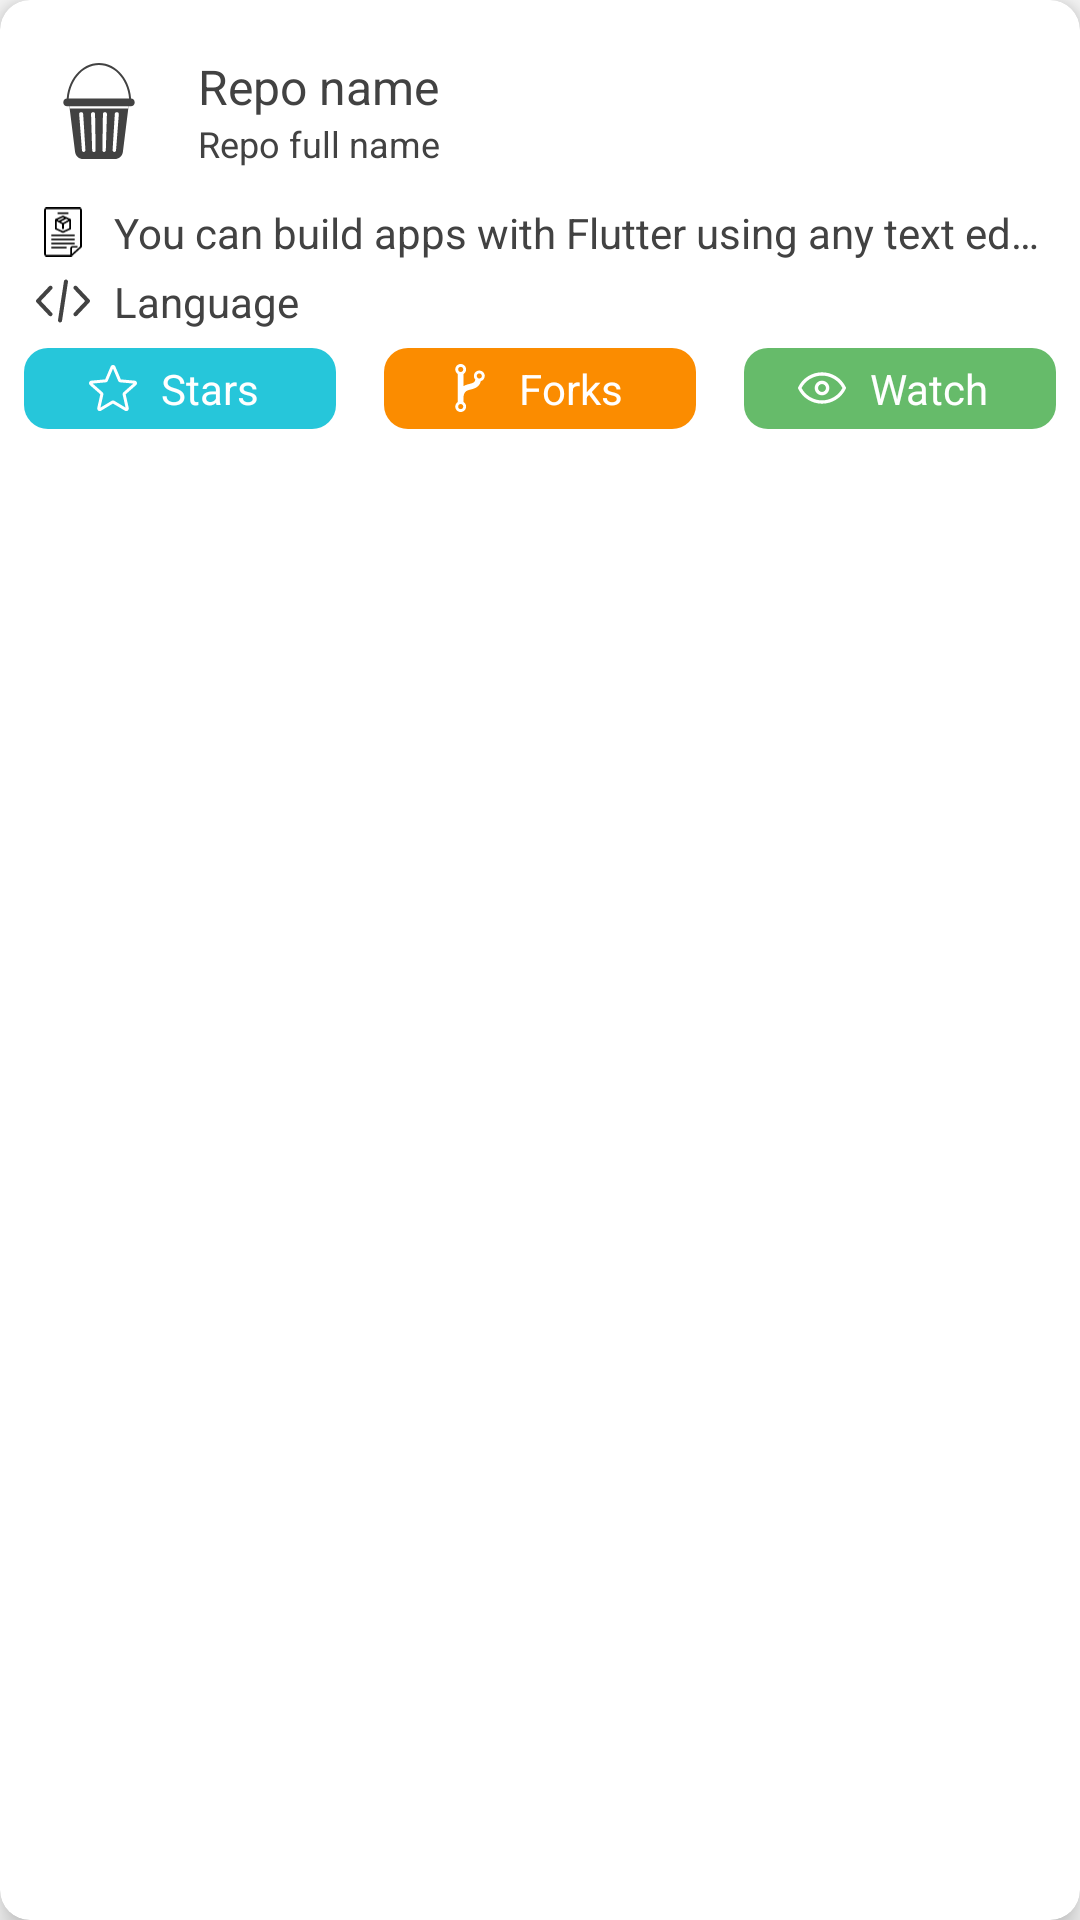

Screen size 1080*1920. Icon name, then its box in pixels as (x1, y1, x2, y2):
coding: (36, 279, 90, 323)
description: (44, 207, 82, 257)
